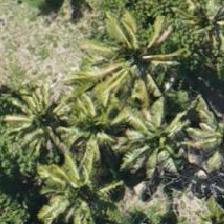coconut_tree: (115, 107, 205, 197), (94, 13, 184, 103), (0, 79, 88, 169), (41, 149, 131, 223)
